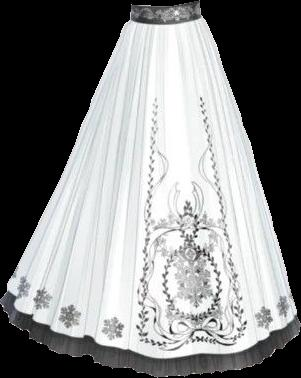Hemline: (0, 298, 300, 377)
Waistline: (127, 14, 203, 27), (131, 0, 199, 8)
